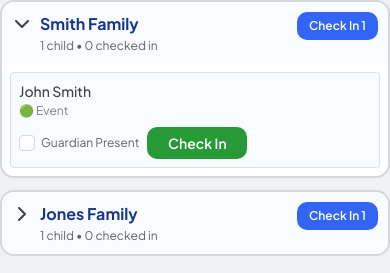
Test case: CheckinExpandableTable › Search Auto-Expand › should re-auto-expand after manual collapse when the search query changes
User manually collapses it
Click the button with test id "family-toggle-button-family-1" at x=89, y=24, box [2,2,388,64]
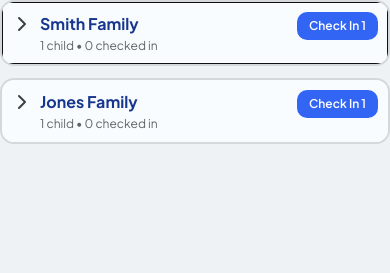
Check: the text "John Smith" is gone
